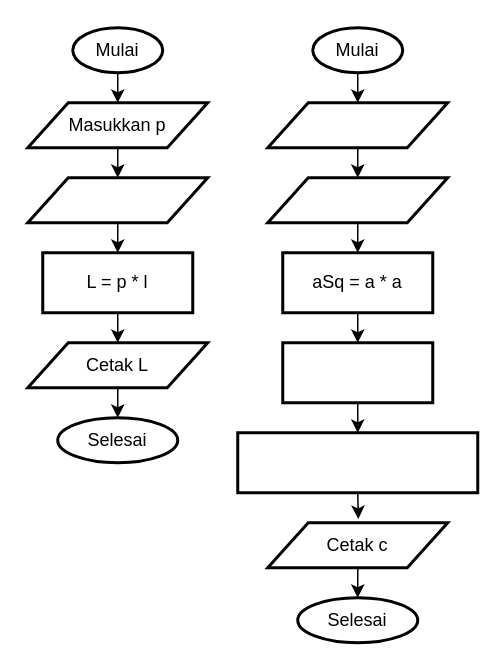
The diagram is 504 pixels wide and 669 high, and some of its shapes have lost their labels. Each missing label, with the centre of its shape:
"bSq = b * b" belongs at [357,372].
"c = sqrt(aSq + bSq)" belongs at [357,462].
"Masukkan a" belongs at [357,124].
"Masukkan b" belongs at [357,200].
"Masukkan l" belongs at [117,200].
